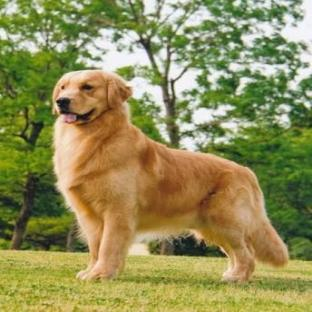Animal: (54, 70, 288, 281)
